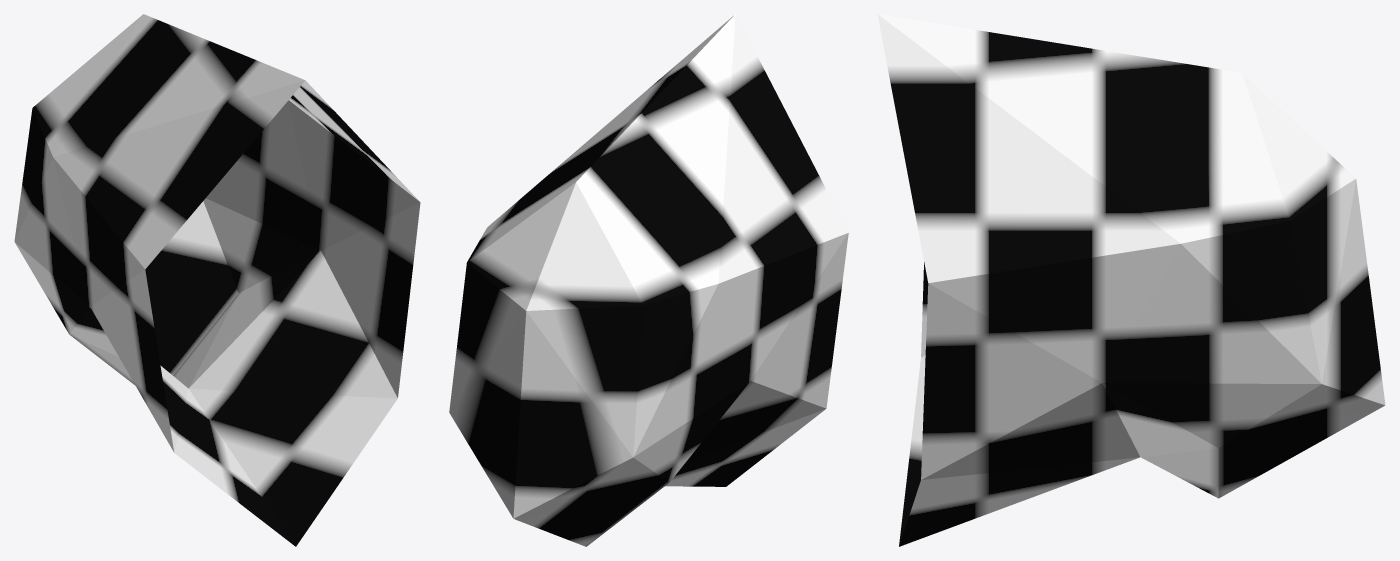
Rendered from initarhl2.dae.
3 renders of one model, left to right at view 1: azimuth 30°, elevation 25°; view 2: azimuth 150°, elevation 25°; view 3: azimuth 270°, elevation 25°, orthographic. The views are drawn at different scales.
Visible parts, largest first — view 1: armor; view 2: armor; view 3: armor.
Boxes of the visible parts, x1,y1,x2,y2 form: armor: (14, 14, 420, 546); armor: (449, 14, 848, 546); armor: (877, 14, 1385, 546).
Bounding box in the file's own units: 0.6477 × 0.9201 × 1.07.
Materials: 1 (1 with a texture image).
